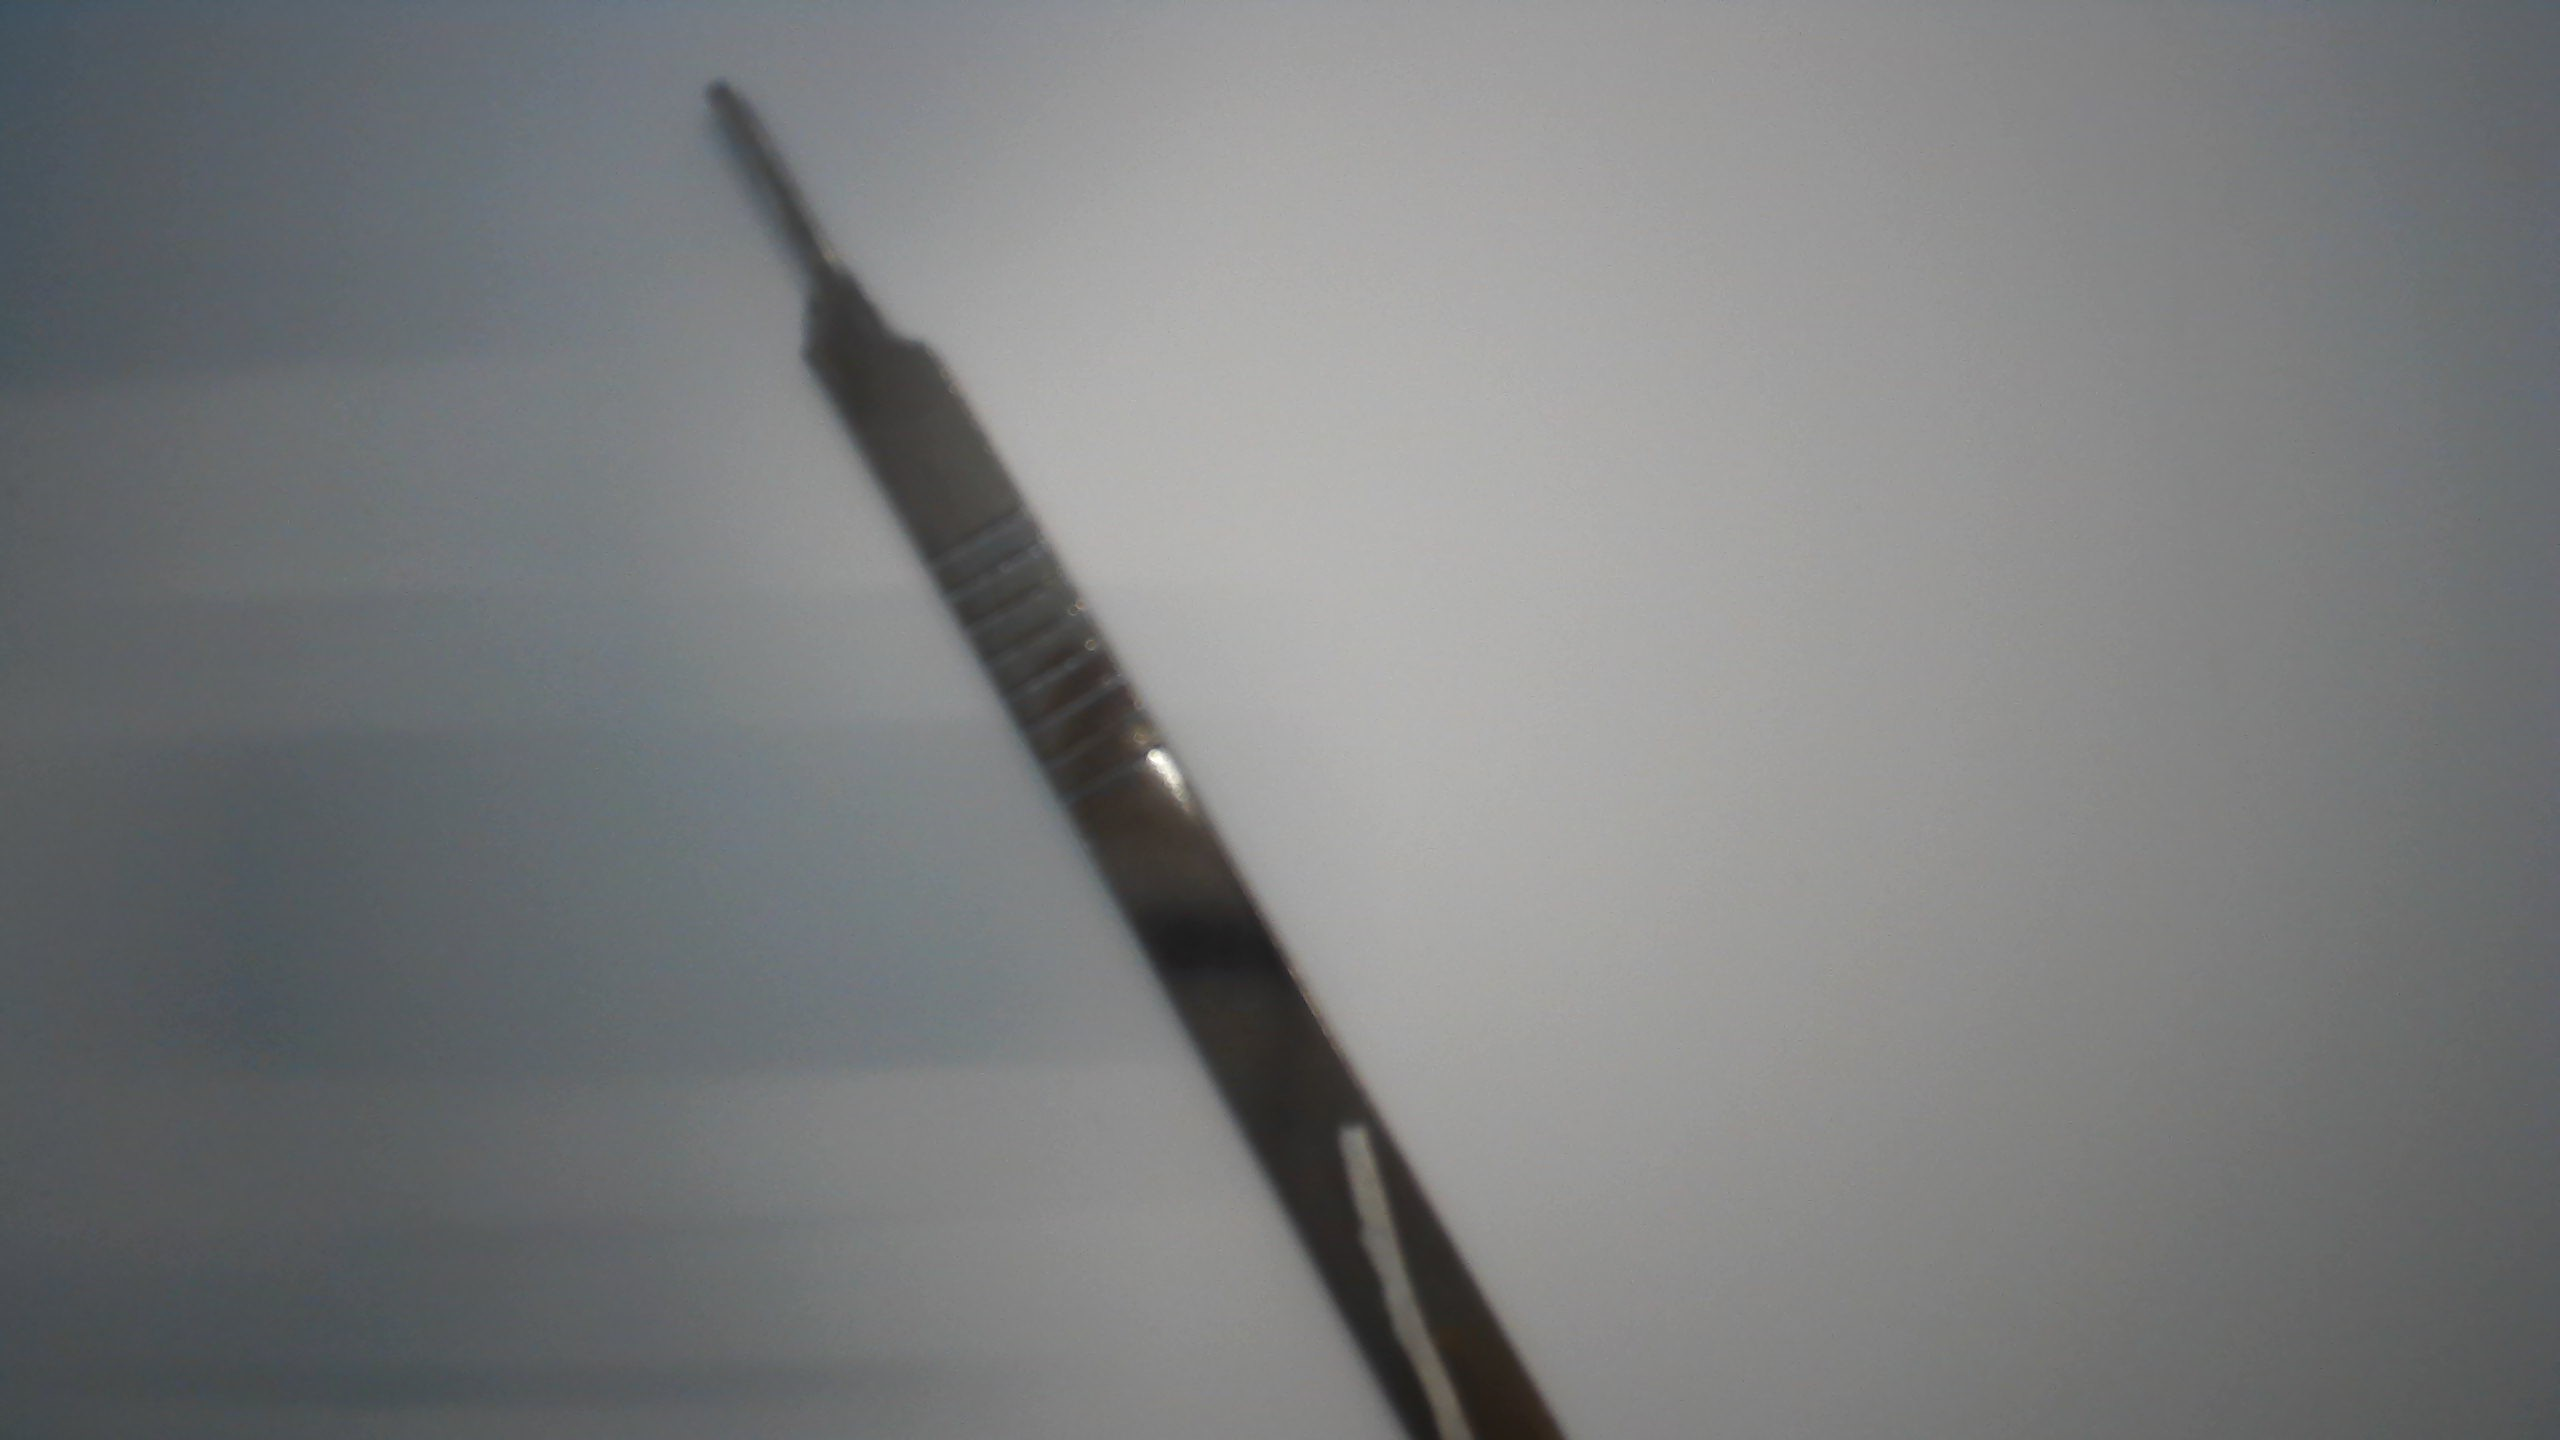Scratches: (1317, 1108, 1502, 1440)
